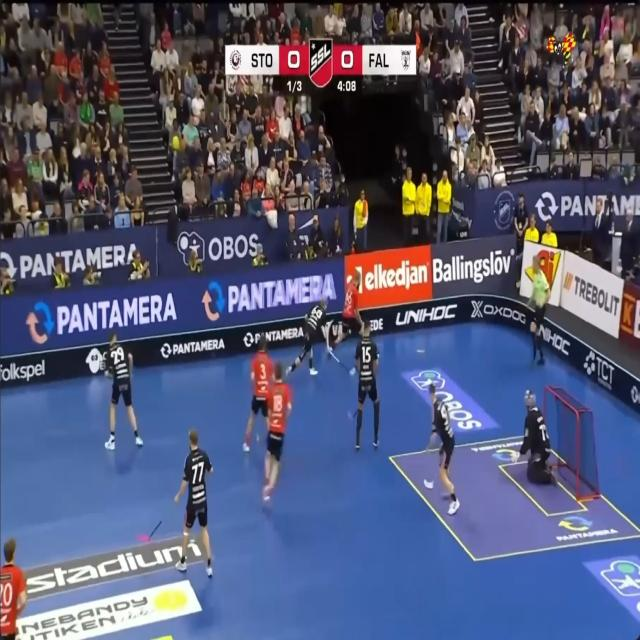player: (175, 429, 212, 577), (105, 333, 143, 450), (262, 363, 292, 500), (428, 383, 459, 514), (513, 390, 554, 484), (242, 333, 272, 452), (286, 298, 327, 376), (355, 321, 379, 450), (326, 271, 362, 350), (0, 538, 26, 639), (528, 255, 550, 364), (424, 480, 433, 488), (350, 367, 356, 374)
stick: (329, 350, 350, 372), (148, 521, 162, 539)
